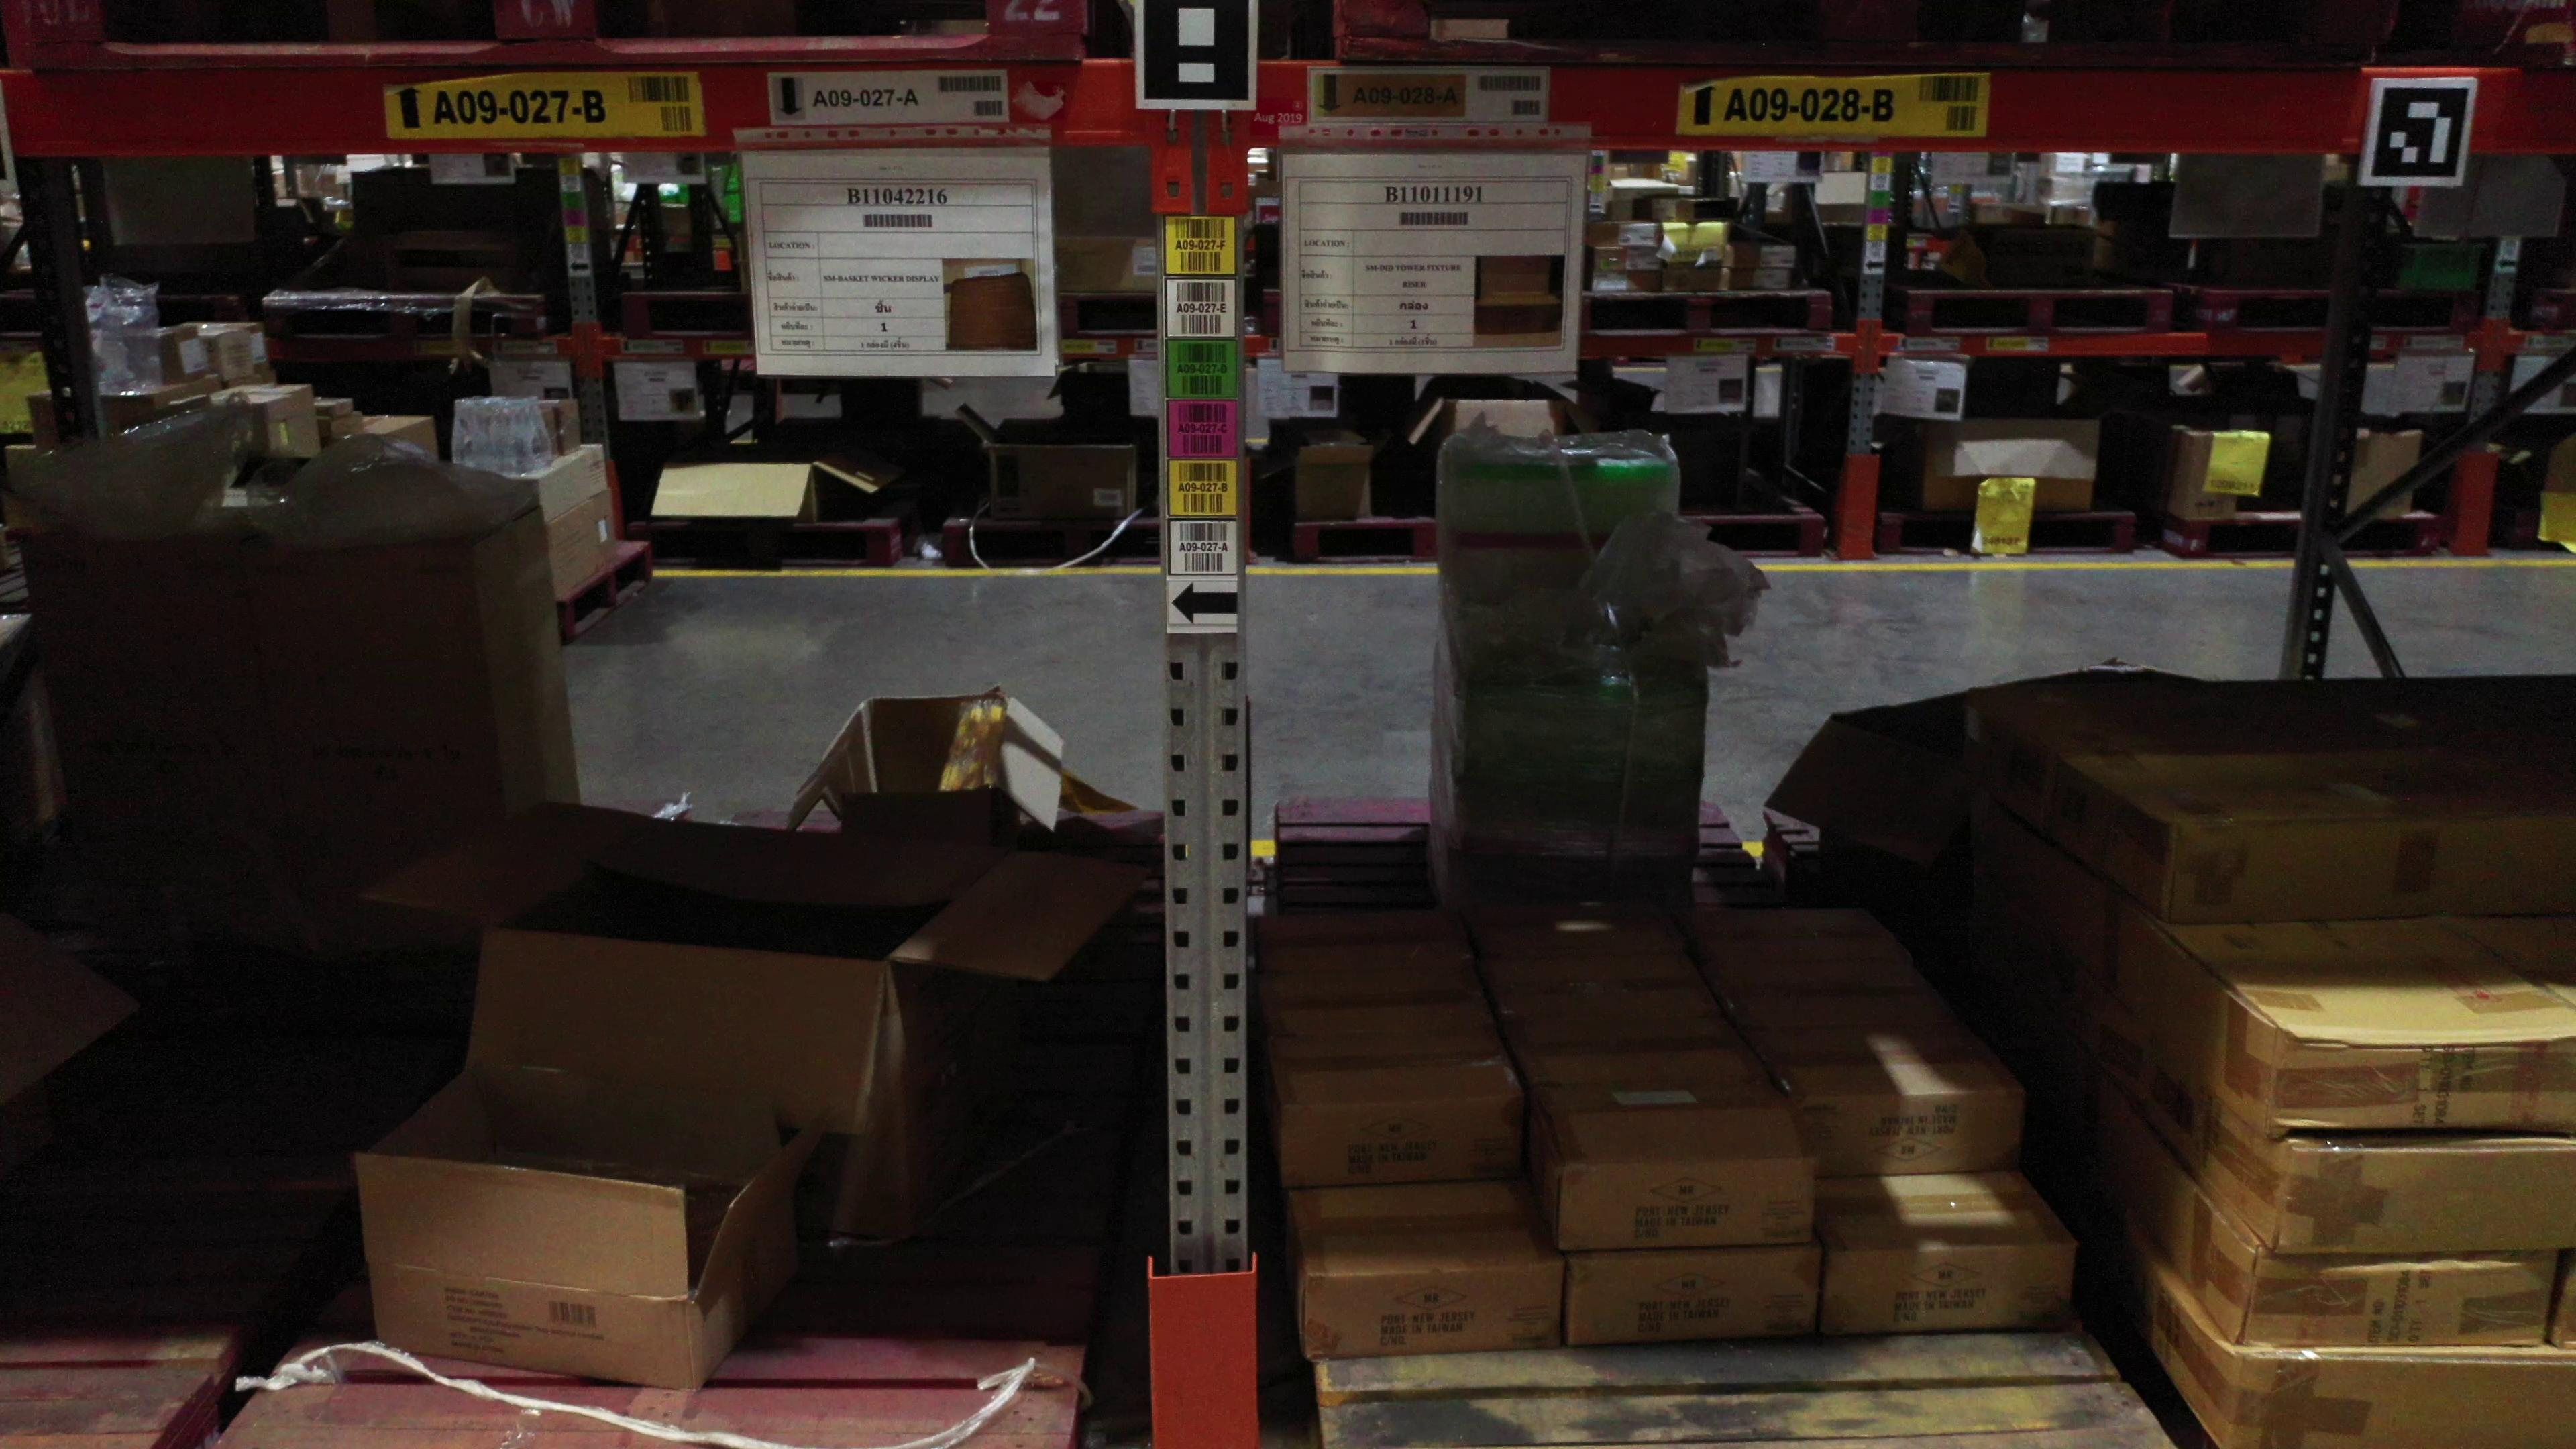-: (370, 1247, 697, 1392), (2164, 814, 2571, 929), (2272, 1136, 2576, 1256), (2226, 1350, 2576, 1449), (2268, 1033, 2576, 1136), (2238, 1256, 2558, 1350), (1302, 1269, 1568, 1364), (1815, 1247, 2075, 1345), (1562, 1254, 1819, 1350), (1562, 1159, 1815, 1254), (1283, 1092, 1514, 1192), (1787, 1090, 2024, 1184)
